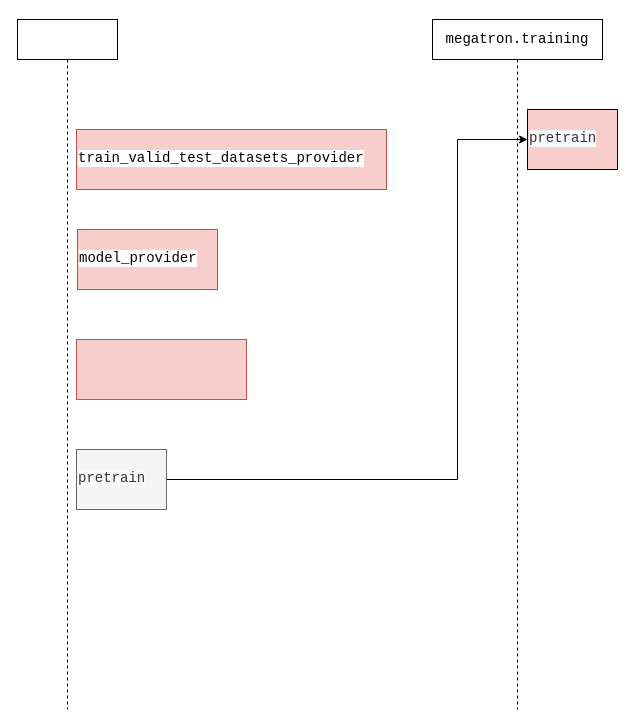
This 635x727 diagram has some shape labels left out. The shapes that lost their labels are listed below. From the top down, each one's centre as x and y in pixels, then its label:
At point (67, 364): "pretrain_gpt".
At point (161, 369): "data_post_process".
